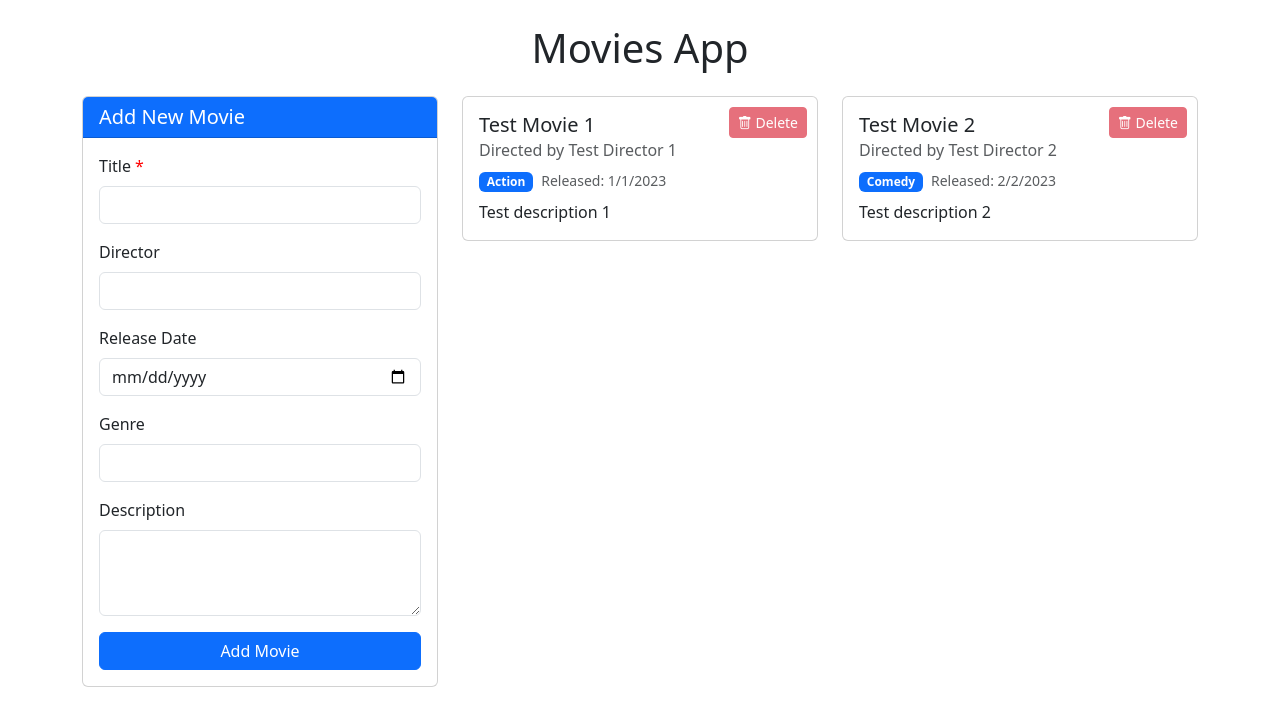
Scenario: App Component › handles error when adding a movie
# Fill out the form
Type "Error Movie" into the field with test id "title-input" at (260,205), box [99,186,421,224]
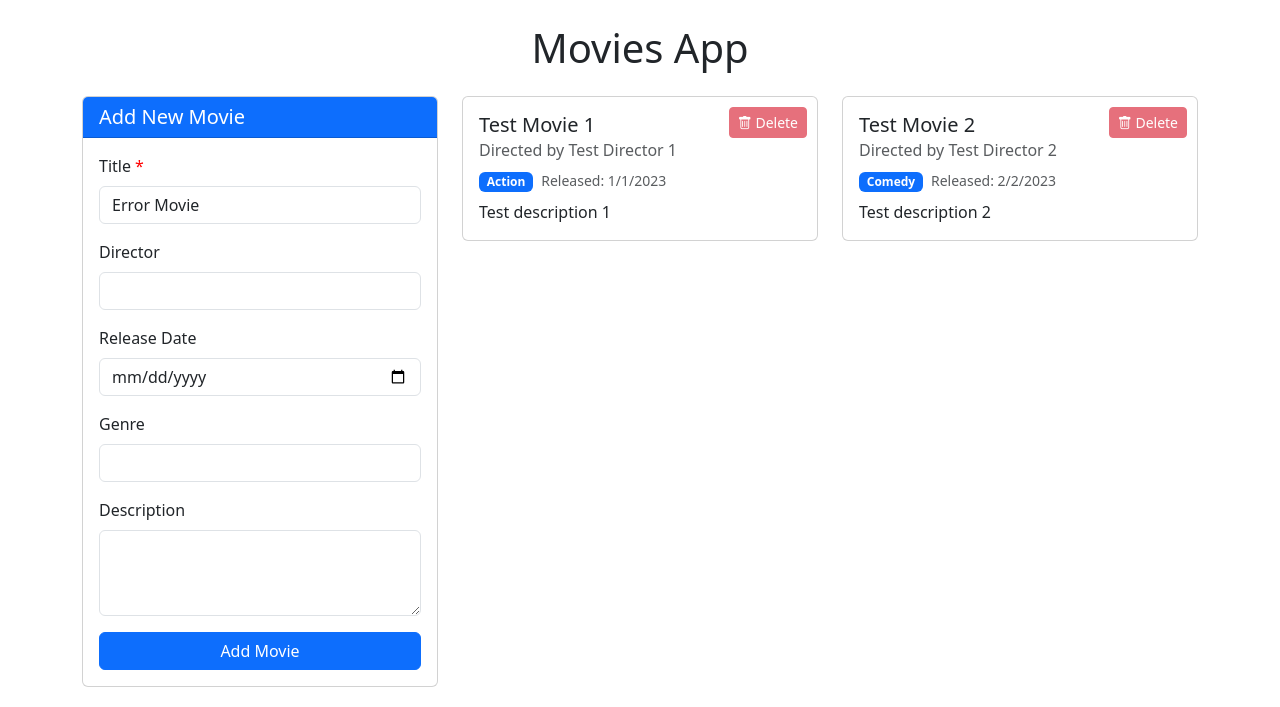
# Submit the form
Click the button with test id "submit-button" at (260,651), box [99,632,421,670]
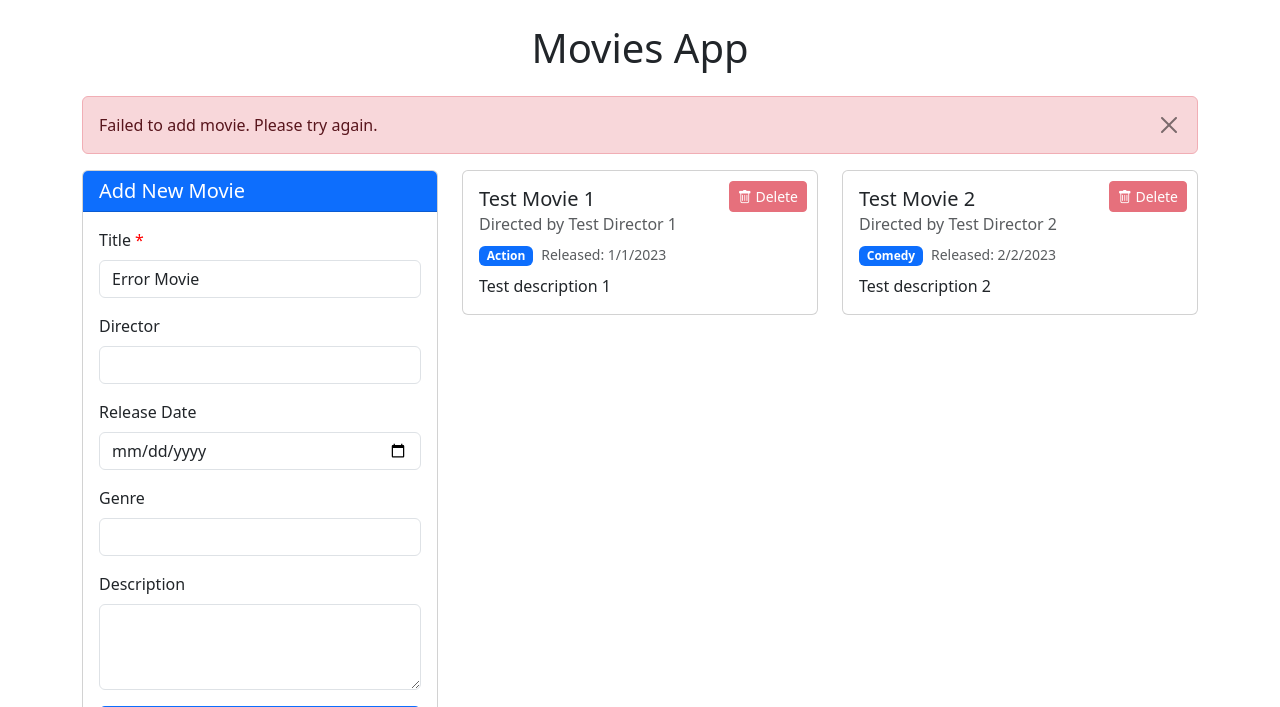
Check: the text "Failed to add movie. Please try again." is shown, box [82,96,1198,154]
